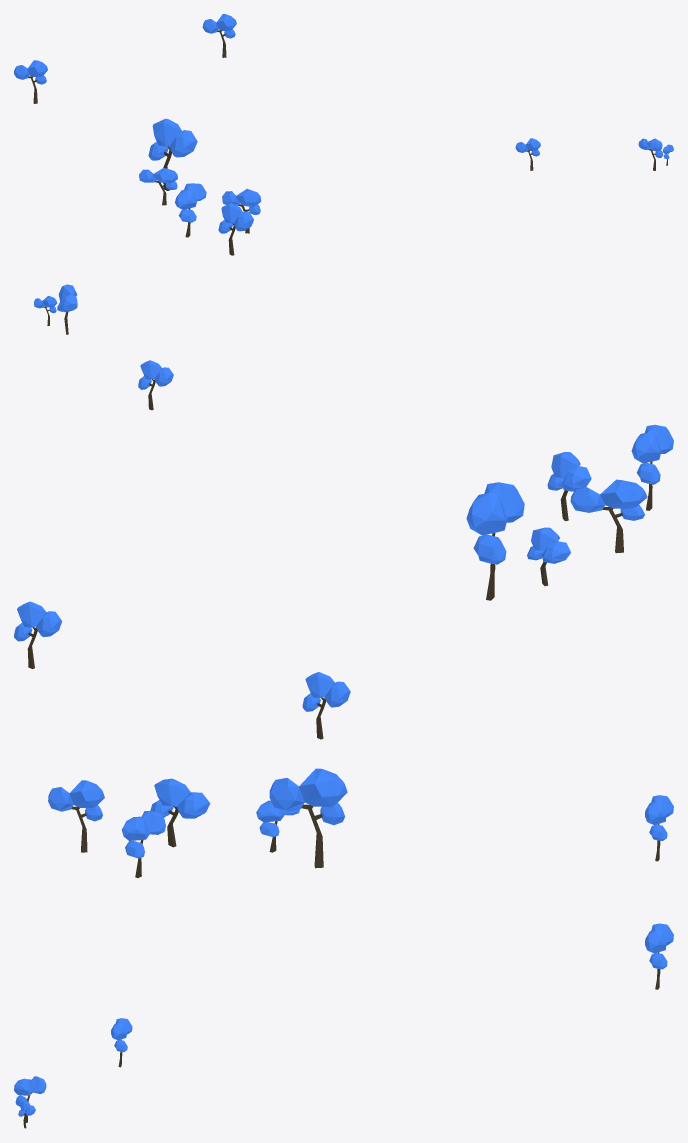
Rendered from plants.glb.
The picture shows the model from 3 angles, top to bottom: view 1: azimuth 30°, elevation 25°; view 2: azimuth 150°, elevation 25°; view 3: azimuth 270°, elevation 25°; orthographic projection. The views are drawn at different scales.
Parts seen in each view (by area): view 1: tree_tree_textures_0.007, tree_tree_textures_0.006, tree_tree_textures_0.008, tree_tree_textures_0.009, tree_tree_textures_0.005, tree_tree_textures_0, tree_tree_textures_0.001; view 2: tree_tree_textures_0.007, tree_tree_textures_0.008, tree_tree_textures_0.006, tree_tree_textures_0, tree_tree_textures_0.001, tree_tree_textures_0.009, tree_tree_textures_0.005, tree_tree_textures_0.002; view 3: tree_tree_textures_0.007, tree_tree_textures_0.008, tree_tree_textures_0.006, tree_tree_textures_0.009, tree_tree_textures_0.001, tree_tree_textures_0, tree_tree_textures_0.005, tree_tree_textures_0.003, tree_tree_textures_0.002.
Boxes of the visible parts, box(x1,y1,x2,y2) form: tree_tree_textures_0.007: box(148, 118, 197, 190); tree_tree_textures_0.006: box(218, 203, 253, 255); tree_tree_textures_0.008: box(175, 183, 206, 237); tree_tree_textures_0.009: box(222, 189, 261, 233); tree_tree_textures_0.005: box(139, 168, 177, 205); tree_tree_textures_0: box(14, 60, 47, 103); tree_tree_textures_0.001: box(202, 14, 236, 57); tree_tree_textures_0.007: box(466, 482, 524, 600); tree_tree_textures_0.008: box(570, 479, 647, 553); tree_tree_textures_0.006: box(631, 424, 673, 510); tree_tree_textures_0: box(302, 672, 350, 739); tree_tree_textures_0.001: box(14, 601, 62, 668); tree_tree_textures_0.009: box(547, 452, 591, 520); tree_tree_textures_0.005: box(527, 527, 570, 586); tree_tree_textures_0.002: box(138, 360, 173, 410); tree_tree_textures_0.007: box(269, 768, 347, 868); tree_tree_textures_0.008: box(150, 778, 210, 847); tree_tree_textures_0.006: box(48, 780, 104, 852); tree_tree_textures_0.009: box(122, 811, 165, 877); tree_tree_textures_0.001: box(645, 923, 673, 989); tree_tree_textures_0: box(645, 795, 673, 861); tree_tree_textures_0.005: box(256, 800, 299, 852); tree_tree_textures_0.003: box(14, 1076, 46, 1122); tree_tree_textures_0.002: box(111, 1018, 132, 1067).
Bounding box in the file's own units: 71.61 × 10.77 × 65.6.
Materials: 1 (1 with a texture image).
